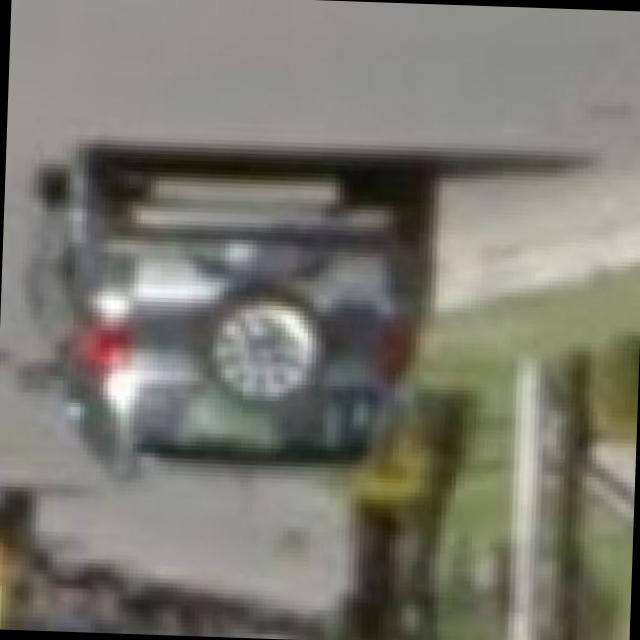car: (0, 112, 448, 511)
